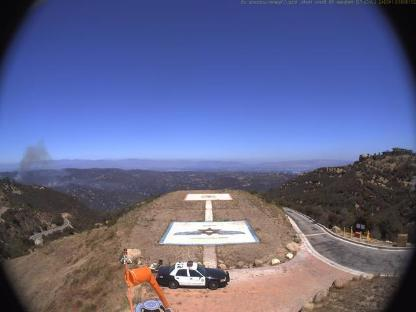smoke: (12, 139, 56, 185)
